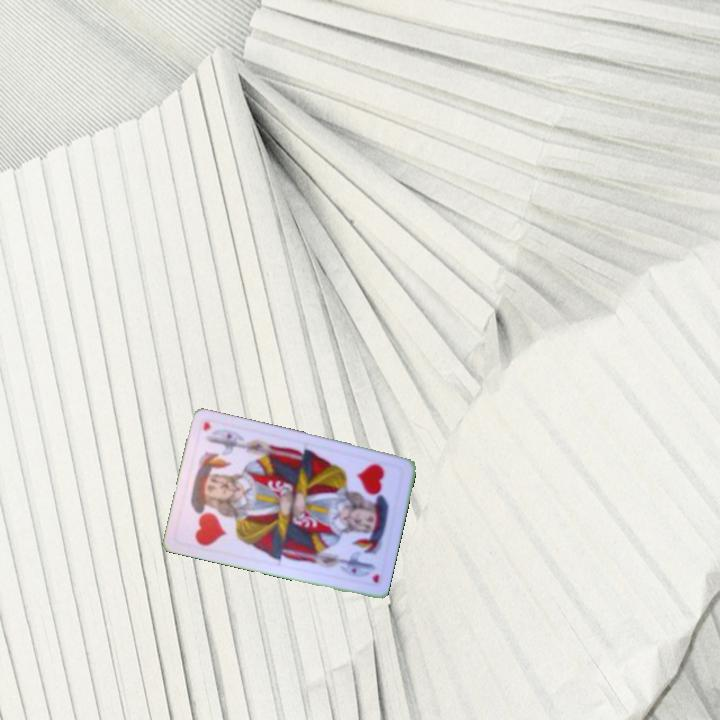h_j.png: (336, 453, 406, 530), (173, 478, 243, 555)
